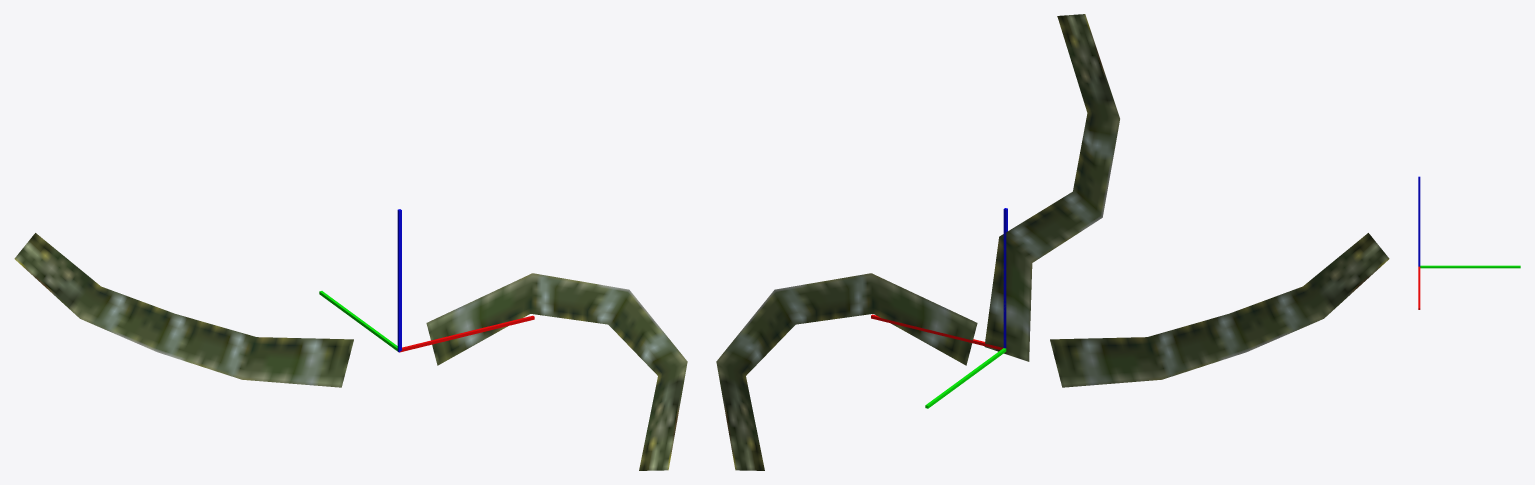
The model's file is snake-b.glb.
The picture shows the model from 3 angles, left to right: view 1: azimuth 30°, elevation 25°; view 2: azimuth 150°, elevation 25°; view 3: azimuth 270°, elevation 25°; orthographic projection. The views are drawn at different scales.
Visible parts, largest first — view 1: special g medusa snakesb_idleModel, Dummy_hotspot; view 2: special g medusa snakesb_idleModel, Dummy_hotspot; view 3: Dummy_hotspot.
Part boxes in pixels (x1=…): special g medusa snakesb_idleModel: x1=14, y1=233, x2=687, y2=470; Dummy_hotspot: x1=319, y1=209, x2=534, y2=352; special g medusa snakesb_idleModel: x1=716, y1=14, x2=1389, y2=470; Dummy_hotspot: x1=871, y1=208, x2=1007, y2=408; Dummy_hotspot: x1=1418, y1=176, x2=1520, y2=309.
Size of the model in its own units: 1.24 by 0.9551 by 0.255.
Materials: 2 (1 with a texture image).
